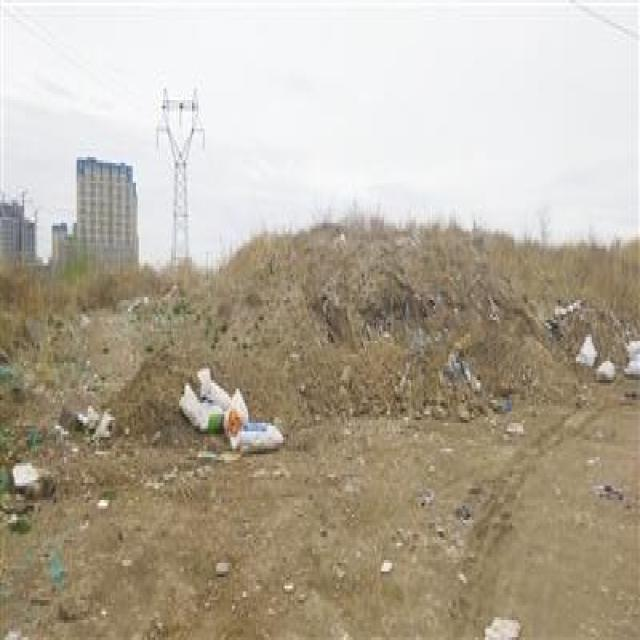garbage: (178, 357, 283, 457)
